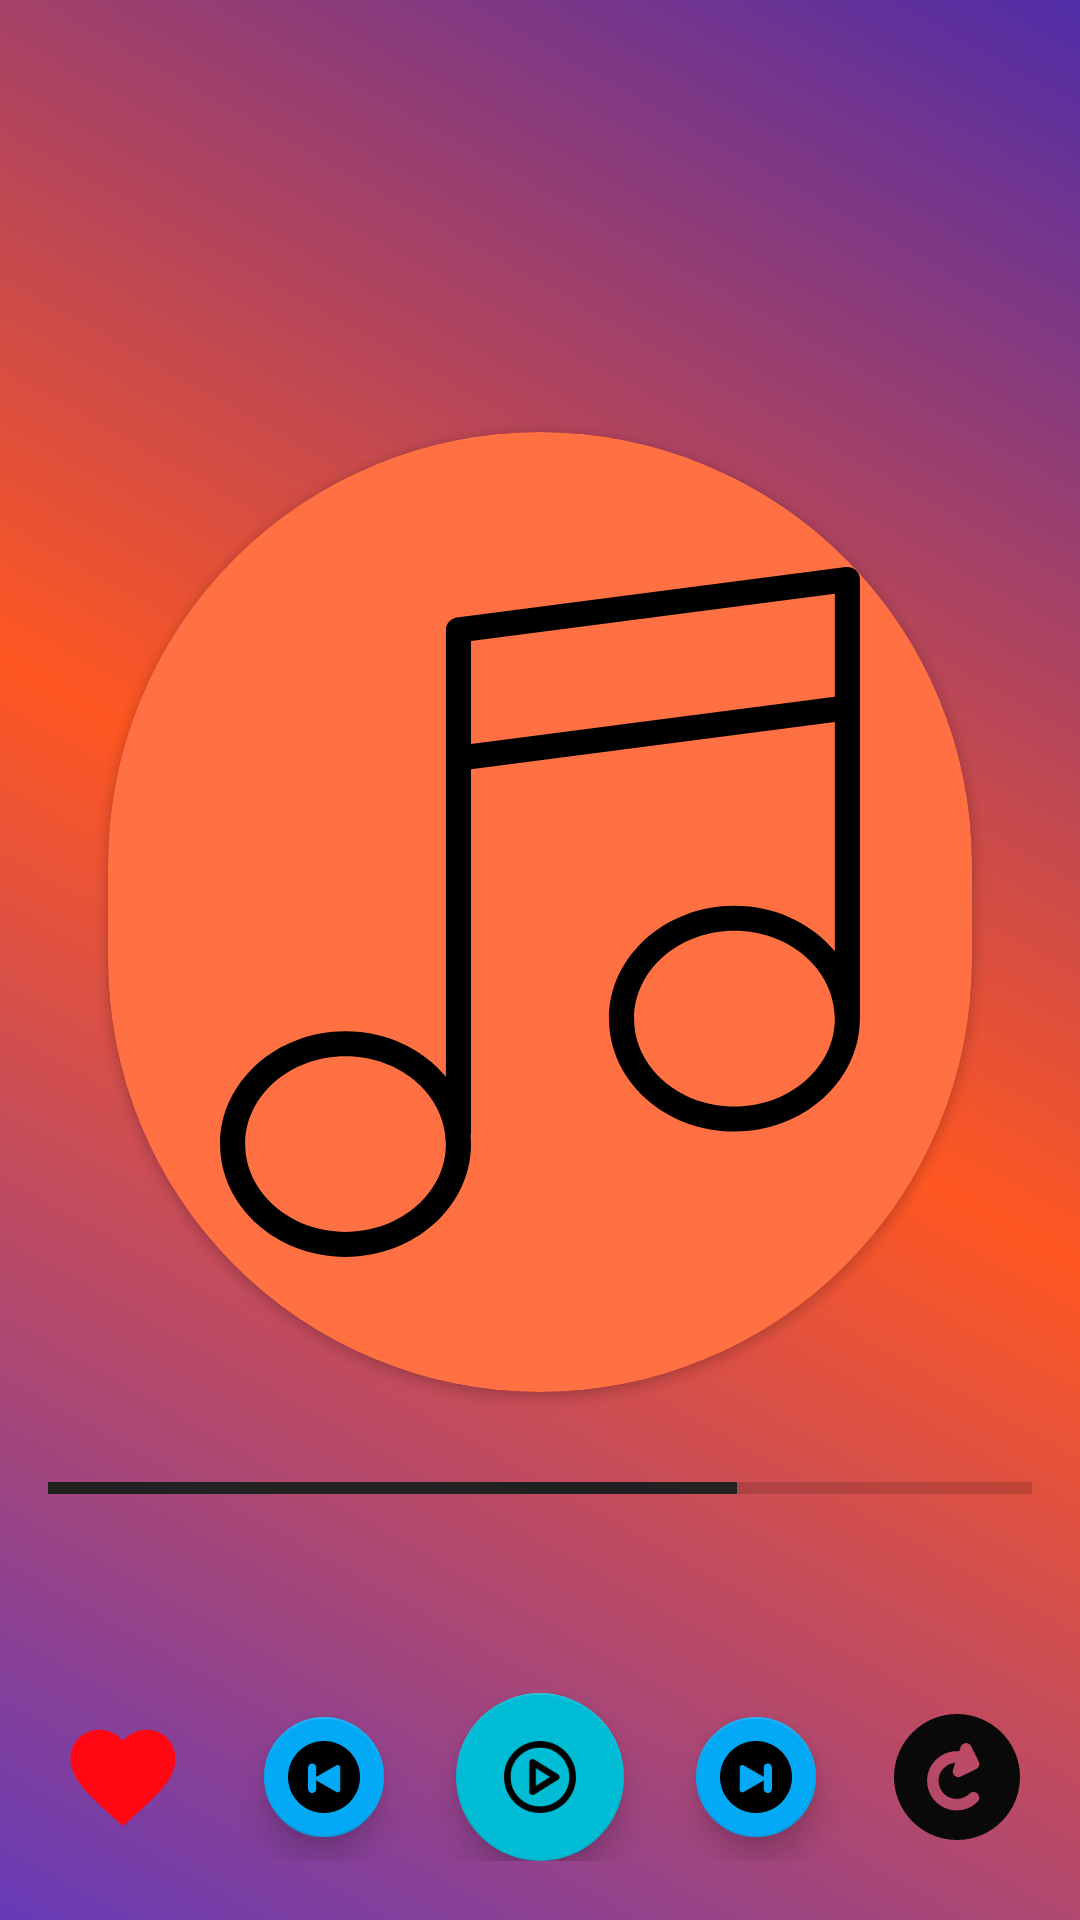

Point at icon controls on the screen. Image size 1080*1920, points as [x,y].
back: [324,1777]
favorite: [123,1777]
next: [756,1777]
